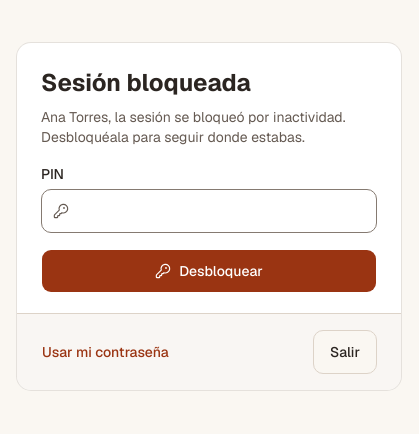
bloqueo de la sesión por inactividad (RFS-29) › un PIN equivocado muestra cuántos intentos quedan
The width and height of the screenshot is (419, 434).
Type "0000" into the password field labelled "PIN" at (209, 210), box x1=41 y1=188 x2=377 y2=232
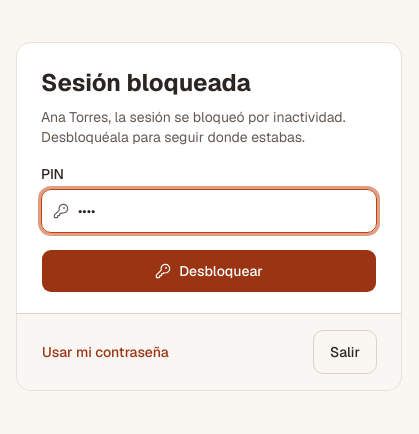
Click the button "Desbloquear" at (209, 270), box x1=41 y1=248 x2=377 y2=292
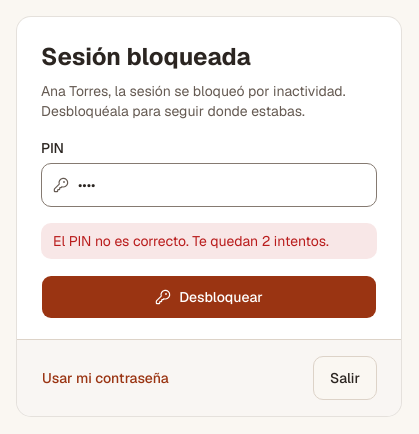
Expected: the text "El PIN no es correcto. Te quedan 2 intentos." is shown, x1=41 y1=222 x2=377 y2=258
